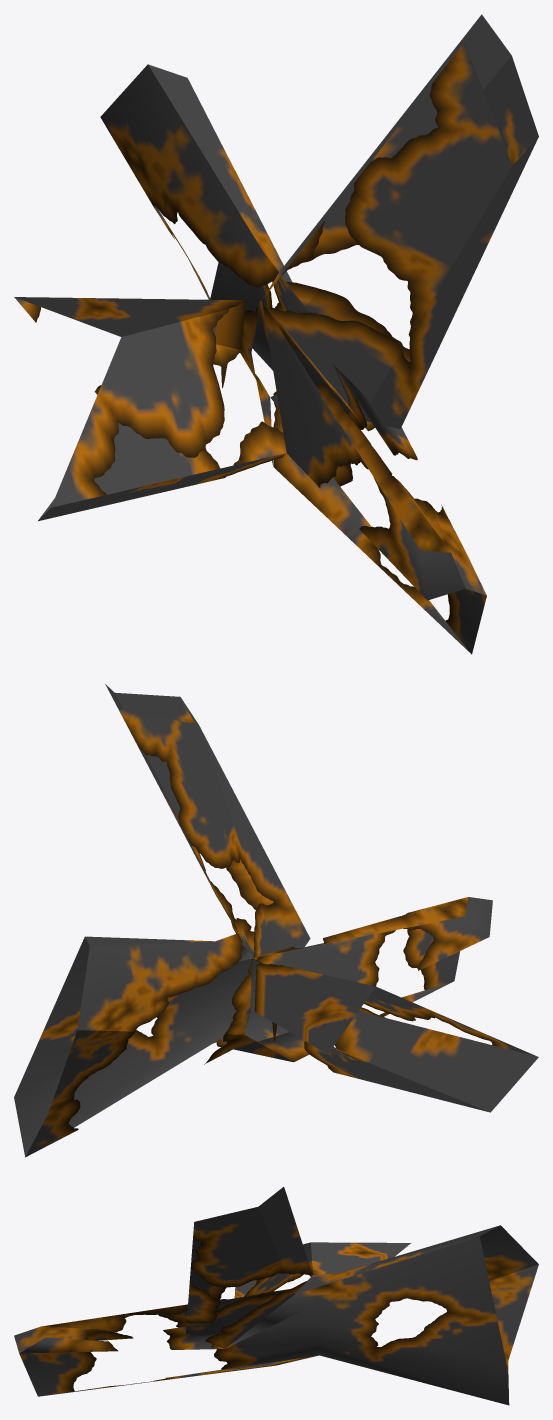
The model's file is DefaultChunk005.fbx.
The picture shows the model from 3 angles, top to bottom: view 1: azimuth 30°, elevation 25°; view 2: azimuth 150°, elevation 25°; view 3: azimuth 270°, elevation 25°; orthographic projection. The views are drawn at different scales.
Parts seen in each view (by area): view 1: chunk005; view 2: chunk005; view 3: chunk005.
Boxes of the visible parts, x1,y1,x2,y2 form: chunk005: (14, 14, 538, 654); chunk005: (14, 684, 538, 1157); chunk005: (14, 1187, 538, 1405).
Size of the model in its own units: 279 by 247 by 429.
Materials: 1 (1 with a texture image).
